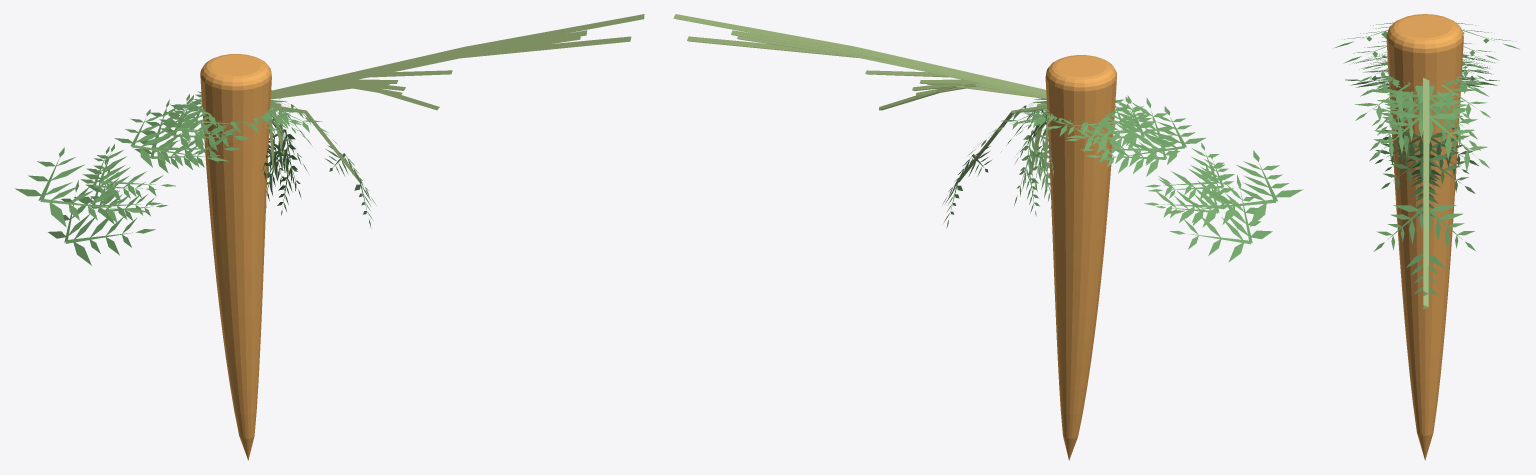
Rendered from carrot_harvest_v07.articulated.glb.
3 renders of one model, left to right at view 1: azimuth 30°, elevation 25°; view 2: azimuth 150°, elevation 25°; view 3: azimuth 270°, elevation 25°, orthographic. The views are drawn at different scales.
Parts seen in each view (by area): view 1: root, leaf03_link2, leaf05_link2, leaf03_link0, leaf01_link2, leaf04_link2, leaf05_link0, leaf02_link2, leaf00_link2, leaf05_link1; view 2: root, leaf03_link2, leaf05_link2, leaf01_link2, leaf03_link0, leaf04_link2, leaf02_link2, leaf00_link2, leaf05_link0; view 3: root, leaf05_link2, leaf03_link2, leaf01_link2, leaf04_link2, leaf03_link0, leaf00_link2, leaf02_link2.
Part boxes in pixels (x1,y1,x2,y2): root: [200, 54, 271, 460]; leaf03_link2: [15, 90, 328, 227]; leaf05_link2: [48, 99, 376, 265]; leaf03_link0: [271, 14, 644, 96]; leaf01_link2: [90, 94, 308, 224]; leaf04_link2: [74, 94, 295, 219]; leaf05_link0: [271, 36, 631, 97]; leaf02_link2: [82, 95, 284, 197]; leaf00_link2: [80, 99, 289, 200]; leaf05_link1: [270, 83, 439, 110]; root: [1045, 55, 1116, 460]; leaf03_link2: [994, 92, 1303, 227]; leaf05_link2: [942, 97, 1272, 262]; leaf01_link2: [1012, 99, 1226, 222]; leaf03_link0: [673, 14, 1046, 95]; leaf04_link2: [1016, 95, 1235, 227]; leaf02_link2: [1030, 104, 1232, 200]; leaf00_link2: [1027, 97, 1234, 200]; leaf05_link0: [687, 36, 1046, 96]; root: [1386, 14, 1463, 460]; leaf05_link2: [1345, 56, 1499, 295]; leaf03_link2: [1334, 22, 1519, 181]; leaf01_link2: [1363, 64, 1489, 216]; leaf04_link2: [1359, 60, 1491, 198]; leaf03_link0: [1423, 77, 1429, 295]; leaf00_link2: [1363, 52, 1488, 139]; leaf02_link2: [1360, 52, 1486, 139].
Size of the model in its own units: 0.264 by 0.1662 by 0.0666.
1 material, 1 textured.
